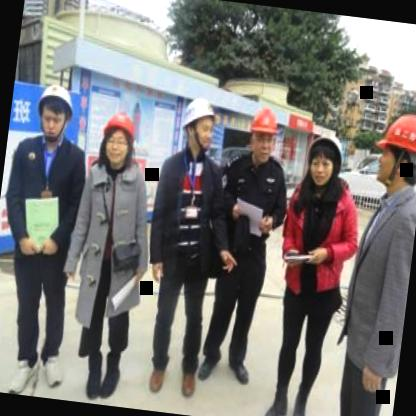helmet: (366, 105, 416, 195), (173, 90, 219, 164), (301, 127, 348, 195), (30, 77, 75, 148), (96, 104, 140, 170), (242, 102, 282, 168)
